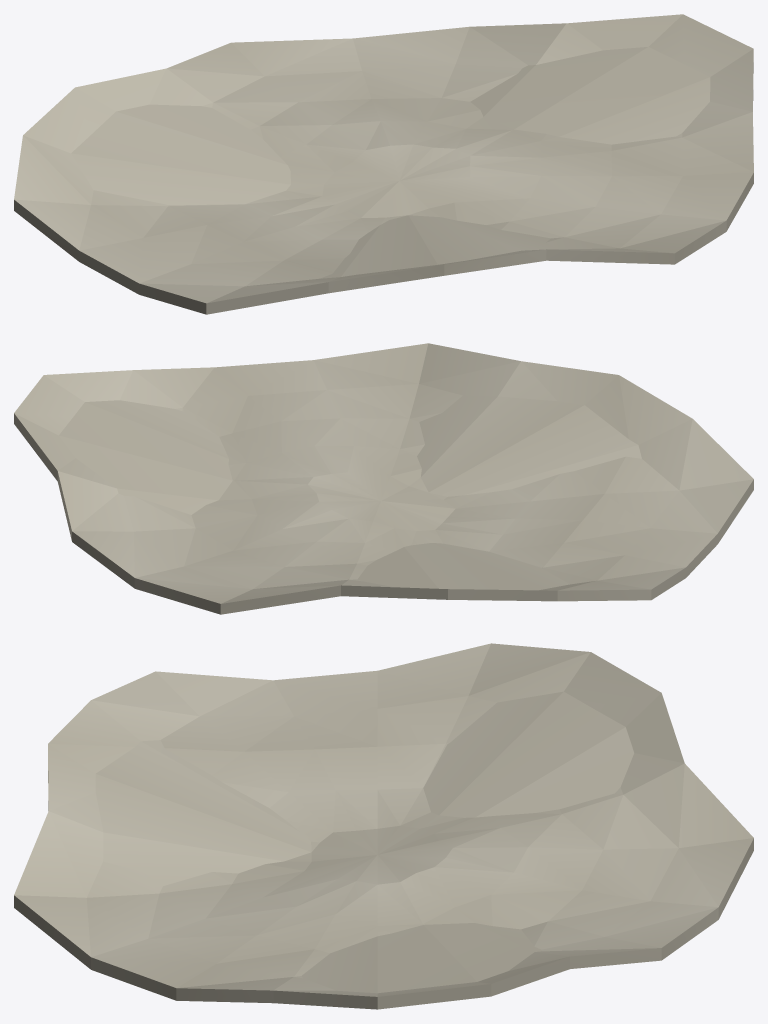
File: triassic-salt-crust-1.glb
3 renders of one model, top to bottom at view 1: azimuth 30°, elevation 25°; view 2: azimuth 150°, elevation 25°; view 3: azimuth 270°, elevation 25°, orthographic. The views are drawn at different scales.
Visible parts, largest first — view 1: triassic-salt-crust-1; view 2: triassic-salt-crust-1; view 3: triassic-salt-crust-1.
Boxes of the visible parts, bbox=[...] form: triassic-salt-crust-1: bbox=[14, 14, 753, 314]; triassic-salt-crust-1: bbox=[14, 343, 753, 614]; triassic-salt-crust-1: bbox=[14, 643, 753, 1009].
Size of the model in its own units: 1.02 by 0.0969 by 0.8498.
